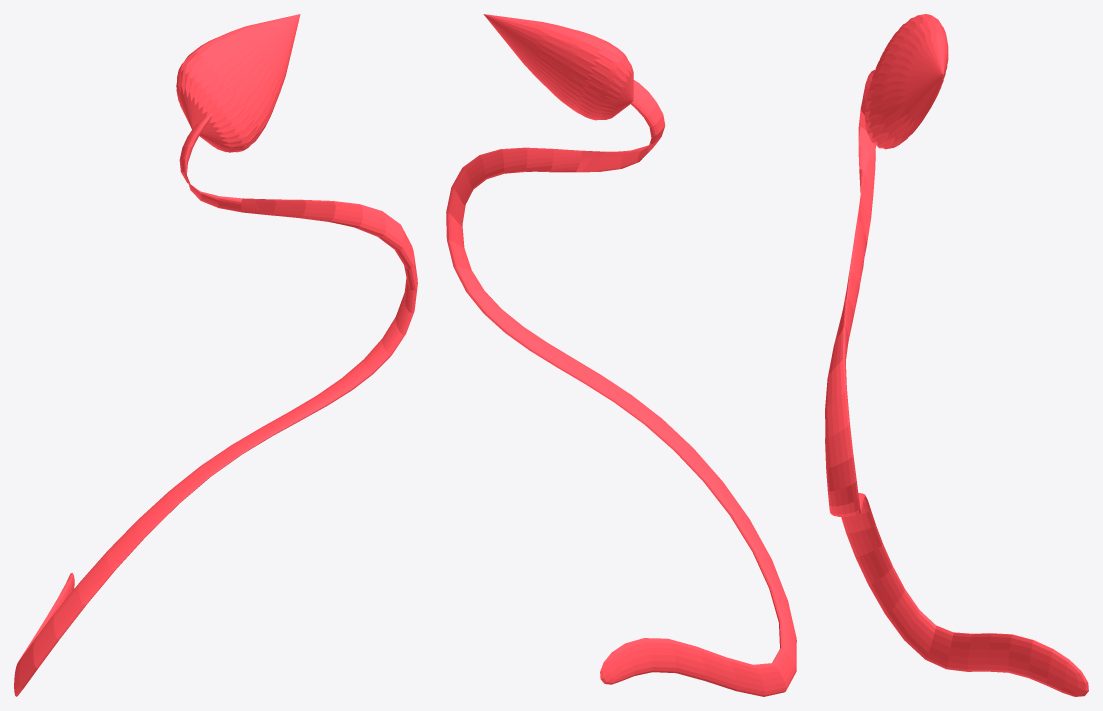
Rendered from tail.gltf.
The picture shows the model from 3 angles, left to right: view 1: azimuth 30°, elevation 25°; view 2: azimuth 150°, elevation 25°; view 3: azimuth 270°, elevation 25°; orthographic projection. The views are drawn at different scales.
Visible parts, largest first — view 1: model.001; view 2: model.001; view 3: model.001.
Part boxes in pixels (bbox=[...]): model.001: bbox=[14, 14, 417, 696]; model.001: bbox=[446, 14, 796, 696]; model.001: bbox=[825, 14, 1088, 696].
Bounding box in the file's own units: 0.4536 × 0.7142 × 0.2223.
